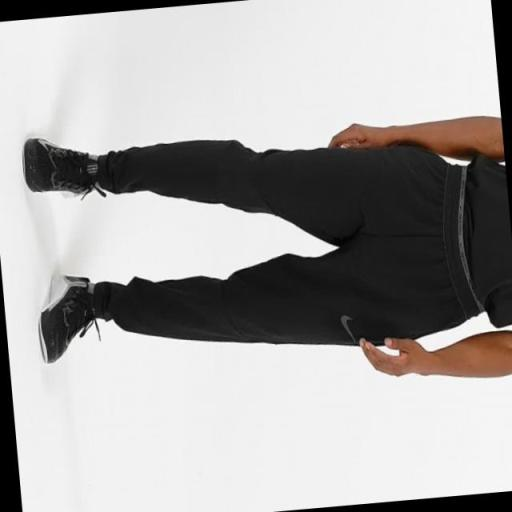Nike: (339, 312, 354, 346)
